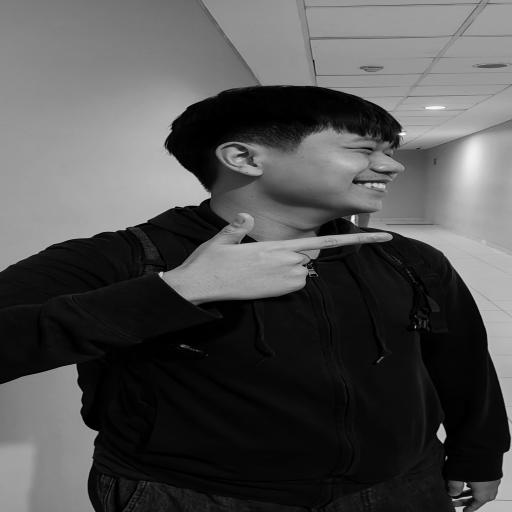next: (136, 200, 427, 311)
